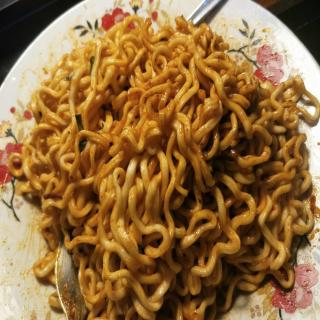carbs: (45, 38, 292, 296)
noodles: (31, 25, 302, 313)
